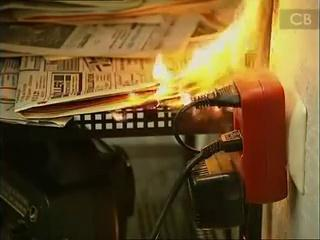Fire: (117, 1, 266, 117)
